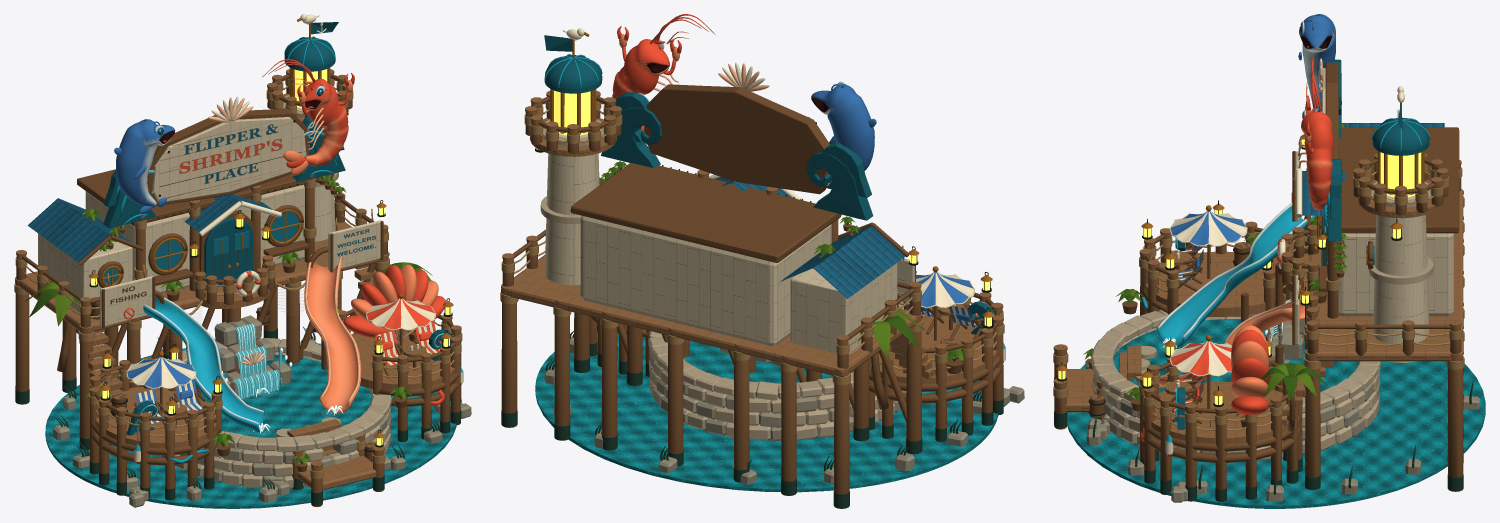
File: flipper-shrimp-ca-light.glb
The picture shows the model from 3 angles, left to right: view 1: azimuth 30°, elevation 25°; view 2: azimuth 150°, elevation 25°; view 3: azimuth 270°, elevation 25°; orthographic projection. The views are drawn at different scales.
Visible parts, largest first — view 1: Flipper and Shrimp C+A; view 2: Flipper and Shrimp C+A; view 3: Flipper and Shrimp C+A.
Boxes of the visible parts, x1,y1,x2,y2 form: Flipper and Shrimp C+A: (14,14,471,508); Flipper and Shrimp C+A: (500,14,1024,508); Flipper and Shrimp C+A: (1053,14,1485,508).
Bounding box in the file's own units: 0.86 × 0.7671 × 0.7817.
37 materials, 14 textured.
